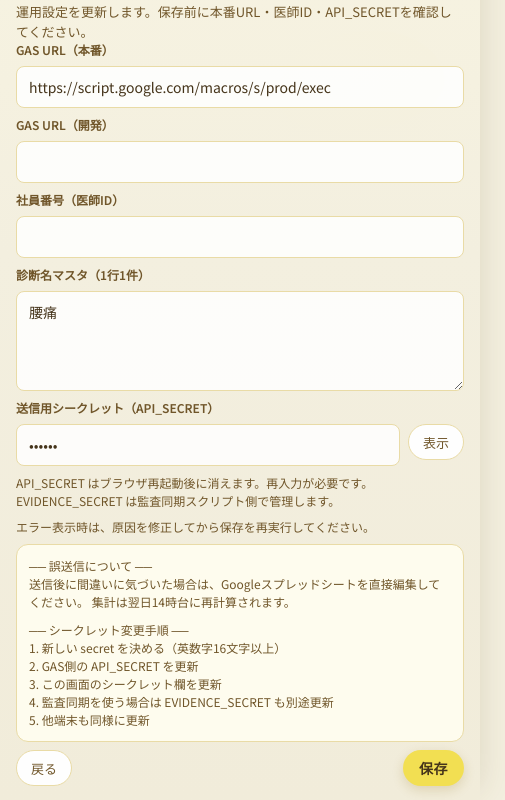
Test: SettingsScreen › 社員番号が空の場合は保存しない
This screenshot has width=505, height=800.
(page scrolled)
Click the button "保存".
click(433, 768)  # box [403, 750, 464, 786]
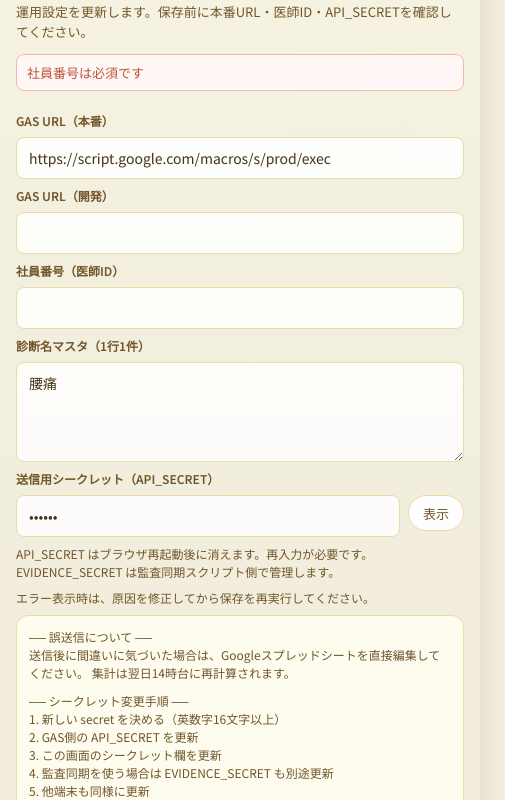
Expected: the text "社員番号は必須です" is shown, [16, 54, 464, 91]
